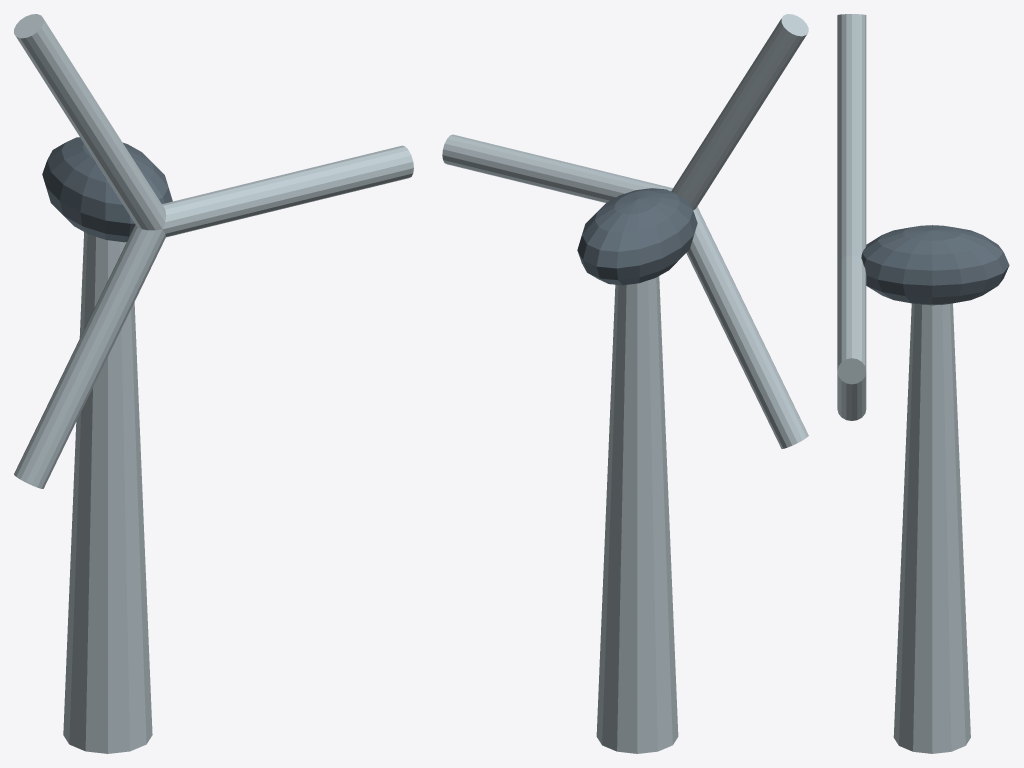
File: wind-power.glb
3 renders of one model, left to right at view 1: azimuth 30°, elevation 25°; view 2: azimuth 150°, elevation 25°; view 3: azimuth 270°, elevation 25°, orthographic. The views are drawn at different scales.
Parts seen in each view (by area): view 1: wind tower, wind rotor.002, wind rotor, wind rotor.001, nacelle; view 2: wind tower, nacelle, wind rotor.002, wind rotor.001, wind rotor; view 3: wind tower, nacelle, wind rotor.001, wind rotor, wind rotor.002.
Part boxes in pixels (x1=…): wind tower: x1=63, y1=232, x2=152, y2=753; wind rotor.002: x1=14, y1=224, x2=165, y2=488; wind rotor: x1=162, y1=145, x2=413, y2=237; wind rotor.001: x1=14, y1=14, x2=166, y2=230; nacelle: x1=42, y1=137, x2=172, y2=242; wind tower: x1=596, y1=276, x2=678, y2=753; nacelle: x1=577, y1=188, x2=697, y2=285; wind rotor.002: x1=686, y1=207, x2=808, y2=448; wind rotor.001: x1=671, y1=14, x2=808, y2=210; wind rotor: x1=442, y1=134, x2=672, y2=202; wind tower: x1=893, y1=303, x2=970, y2=753; nacelle: x1=861, y1=225, x2=1009, y2=305; wind rotor.001: x1=837, y1=14, x2=866, y2=264; wind rotor: x1=837, y1=255, x2=866, y2=384; wind rotor.002: x1=837, y1=372, x2=866, y2=420.
Size of the model in its own units: 1.21 by 2.32 by 0.535.
